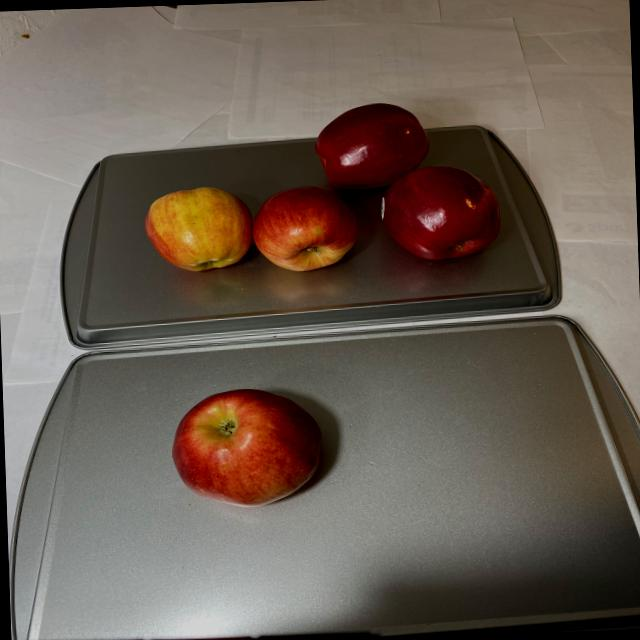apple: (140, 98, 508, 276), (170, 383, 330, 510)
